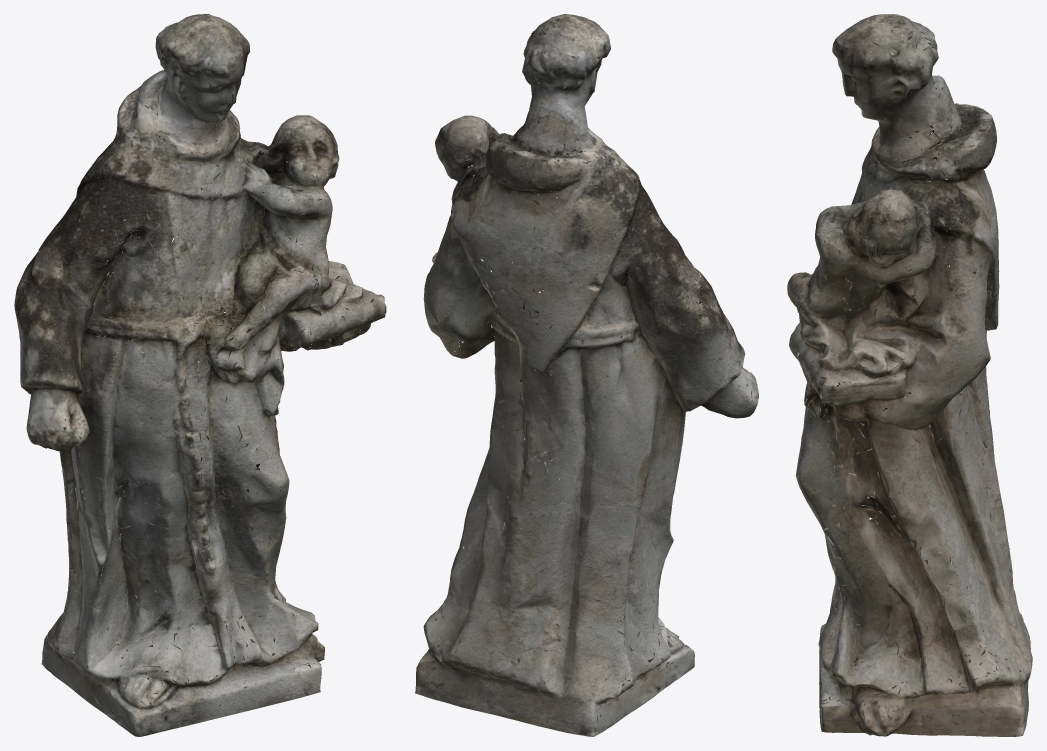
Rendered from scan-anton.glb.
The picture shows the model from 3 angles, left to right: view 1: azimuth 30°, elevation 25°; view 2: azimuth 150°, elevation 25°; view 3: azimuth 270°, elevation 25°; orthographic projection. The views are drawn at different scales.
Parts seen in each view (by area): view 1: geometry_6, geometry_3, geometry_2, geometry_5, geometry_4, geometry_0; view 2: geometry_6, geometry_5, geometry_3, geometry_4, geometry_2; view 3: geometry_5, geometry_4, geometry_3, geometry_2, geometry_6, geometry_1, geometry_0.
Part boxes in pixels (left/top/right/bottom): geometry_6: left=14, top=82, right=233, bottom=671; geometry_3: left=48, top=15, right=386, bottom=713; geometry_2: left=43, top=25, right=374, bottom=731; geometry_5: left=16, top=111, right=324, bottom=736; geometry_4: left=120, top=14, right=386, bottom=691; geometry_0: left=41, top=621, right=320, bottom=736; geometry_6: left=476, top=110, right=758, bottom=687; geometry_5: left=415, top=151, right=757, bottom=736; geometry_3: left=423, top=14, right=689, bottom=725; geometry_4: left=416, top=14, right=633, bottom=728; geometry_2: left=432, top=31, right=693, bottom=724; geometry_5: left=795, top=123, right=1032, bottom=736; geometry_4: left=792, top=14, right=1026, bottom=736; geometry_3: left=787, top=14, right=1025, bottom=636; geometry_2: left=787, top=22, right=1030, bottom=673; geometry_6: left=820, top=78, right=999, bottom=585; geometry_1: left=804, top=374, right=902, bottom=459; geometry_0: left=819, top=642, right=1028, bottom=736.
Bounding box in the file's own units: 1.05 × 2 × 0.6607.
Materials: 1 (1 with a texture image).
